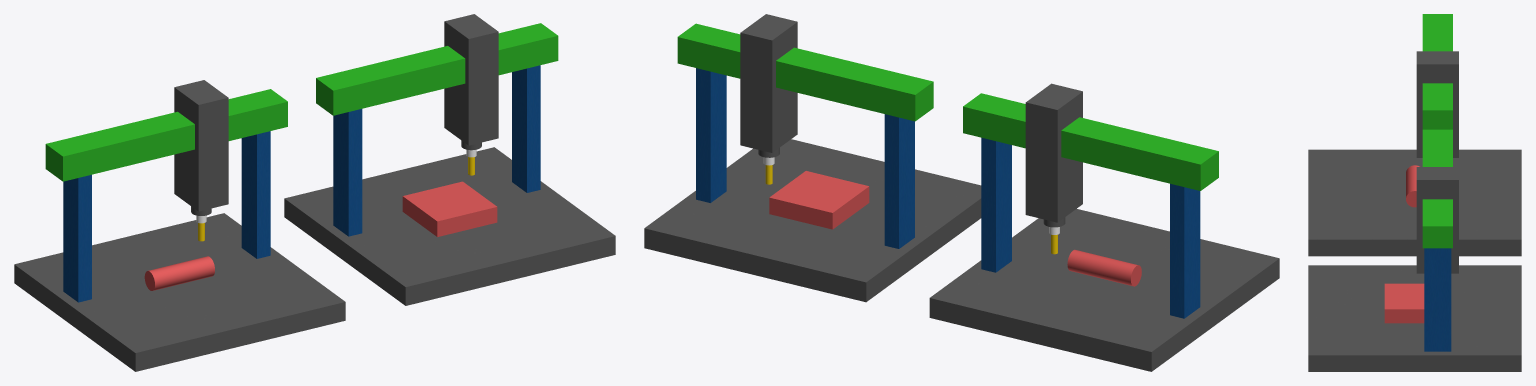
File: DemoCSGMachining.glb
The picture shows the model from 3 angles, left to right: view 1: azimuth 30°, elevation 25°; view 2: azimuth 150°, elevation 25°; view 3: azimuth 270°, elevation 25°; orthographic projection. The views are drawn at different scales.
Visible parts, largest first — view 1: Table (×2), Bridge (×2), CarriageBody (×2), LegLeft (×2), LegRight (×2), Workpiece (×2); view 2: Table (×2), Bridge (×2), CarriageBody (×2), LegLeft (×2), LegRight (×2), Workpiece (×2); view 3: Table (×2), Bridge (×2), CarriageBody (×2), LegLeft, Workpiece (×2).
Part boxes in pixels (left/top/right/bottom): Table (×2): left=14, top=147, right=615, bottom=371; Bridge (×2): left=45, top=23, right=558, bottom=181; CarriageBody (×2): left=174, top=14, right=498, bottom=211; LegLeft (×2): left=241, top=65, right=540, bottom=258; LegRight (×2): left=63, top=109, right=362, bottom=302; Workpiece (×2): left=144, top=181, right=497, bottom=290; Table (×2): left=644, top=139, right=1279, bottom=371; Bridge (×2): left=677, top=23, right=1218, bottom=190; CarriageBody (×2): left=740, top=14, right=1082, bottom=222; LegLeft (×2): left=696, top=68, right=1011, bottom=272; LegRight (×2): left=884, top=114, right=1200, bottom=318; Workpiece (×2): left=769, top=171, right=1141, bottom=286; Table (×2): left=1308, top=149, right=1521, bottom=371; Bridge (×2): left=1422, top=14, right=1452, bottom=248; CarriageBody (×2): left=1416, top=51, right=1458, bottom=273; LegLeft: left=1424, top=248, right=1451, bottom=351; Workpiece (×2): left=1384, top=165, right=1424, bottom=323.
Size of the model in its own units: 1.65 by 0.6098 by 0.7.
Materials: 6 (3 with a texture image).
